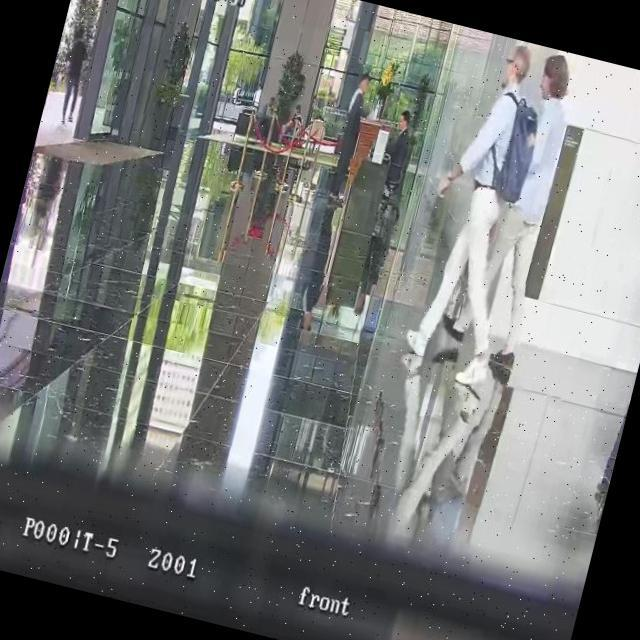person: (391, 32, 567, 394), (434, 44, 588, 384), (457, 49, 589, 383), (352, 106, 422, 290), (590, 270, 640, 513), (326, 68, 380, 202), (50, 28, 94, 127), (252, 95, 282, 146), (284, 102, 306, 136)
